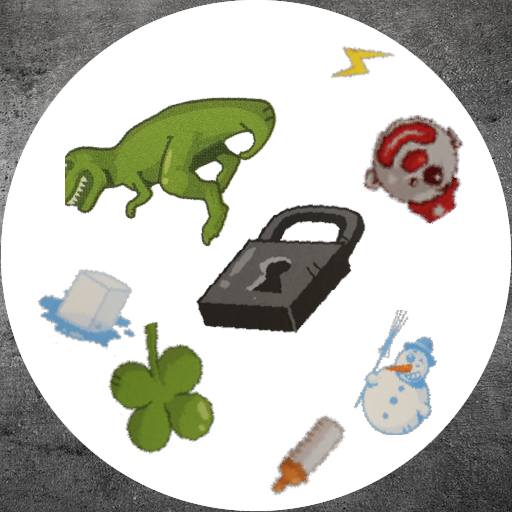bottle_icon: (256, 407, 355, 506)
cloverleaf_icon: (103, 320, 241, 458)
clown_icon: (360, 115, 470, 225)
cube_icon: (37, 247, 148, 358)
dino_icon: (65, 38, 278, 251)
lightning_icon: (328, 29, 396, 97)
lock_icon: (191, 181, 368, 358)
snowman_icon: (333, 310, 458, 435)
